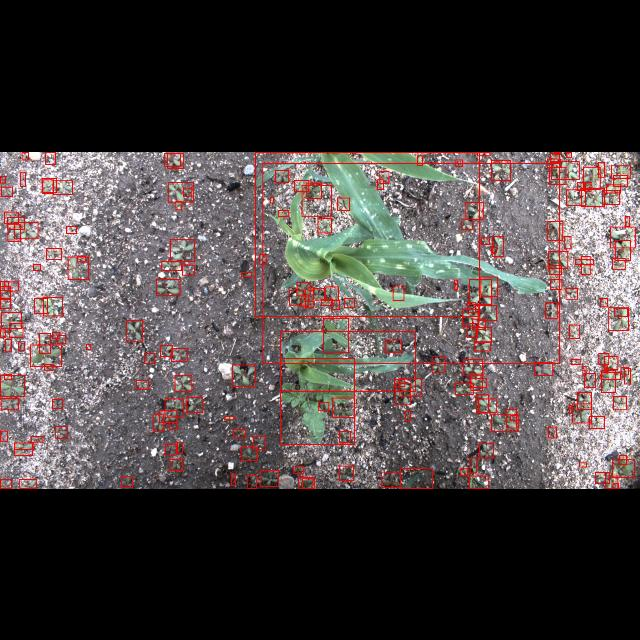crop: (262, 162, 560, 364), (255, 152, 479, 316), (280, 331, 416, 391), (400, 468, 432, 488), (469, 476, 488, 488)
weed: (280, 358, 354, 444), (302, 184, 332, 216), (324, 318, 348, 352), (30, 344, 61, 366), (469, 278, 491, 304), (610, 226, 636, 248), (0, 374, 24, 396), (170, 239, 194, 261), (232, 364, 255, 386), (551, 160, 579, 178), (168, 181, 192, 201), (492, 414, 518, 432), (68, 256, 88, 278), (332, 397, 354, 417), (609, 308, 629, 330), (581, 188, 605, 206), (43, 296, 63, 316), (400, 378, 422, 396), (612, 459, 634, 477), (14, 222, 38, 238), (156, 279, 180, 295), (492, 159, 511, 179), (572, 403, 592, 422), (480, 276, 498, 296), (548, 250, 568, 268), (584, 166, 600, 188), (164, 399, 183, 417), (126, 321, 142, 342), (1, 312, 21, 328), (395, 384, 411, 404), (463, 359, 483, 375), (566, 189, 586, 205), (602, 370, 616, 392), (382, 472, 401, 488), (478, 304, 497, 320), (174, 375, 192, 391), (260, 470, 278, 486), (462, 308, 478, 326), (602, 188, 620, 204), (550, 166, 566, 184), (53, 180, 73, 194), (478, 398, 498, 412), (548, 220, 562, 240), (616, 240, 630, 260), (187, 396, 203, 412), (306, 182, 322, 198), (478, 442, 494, 458), (476, 326, 492, 342), (466, 202, 482, 218), (14, 442, 32, 456), (577, 392, 591, 410), (535, 362, 553, 376), (612, 165, 630, 178), (476, 393, 488, 412), (164, 152, 180, 166), (168, 152, 182, 168), (241, 446, 257, 460), (289, 290, 305, 304), (7, 223, 20, 240), (492, 236, 503, 256), (152, 414, 164, 432), (160, 410, 177, 422), (40, 333, 50, 353), (161, 260, 181, 270), (506, 408, 516, 428), (455, 382, 473, 393), (42, 178, 56, 192), (34, 298, 48, 312), (275, 168, 289, 182), (318, 218, 332, 232), (324, 286, 338, 300), (339, 466, 353, 480), (8, 216, 24, 228), (172, 348, 188, 360), (386, 340, 402, 352), (432, 356, 444, 372), (584, 372, 596, 388), (546, 302, 558, 318), (471, 374, 482, 391), (2, 398, 18, 409), (42, 179, 54, 193), (4, 211, 18, 223), (10, 323, 22, 337), (253, 436, 265, 450), (296, 282, 310, 294), (590, 416, 604, 428), (613, 174, 627, 186), (604, 356, 618, 368), (614, 396, 626, 410), (46, 248, 62, 258), (14, 442, 34, 450), (298, 478, 314, 488), (467, 322, 477, 338), (392, 286, 403, 300), (472, 318, 486, 329), (595, 472, 609, 483), (469, 378, 486, 387), (56, 426, 68, 438), (20, 479, 36, 488), (170, 459, 182, 471), (160, 344, 172, 356), (337, 197, 349, 209), (313, 287, 325, 299), (474, 342, 490, 351), (606, 476, 618, 488), (582, 256, 590, 274), (294, 180, 308, 190), (569, 324, 579, 338), (612, 258, 626, 268), (121, 477, 132, 488), (45, 151, 55, 163), (0, 286, 10, 298), (182, 264, 194, 274), (233, 428, 245, 438), (302, 478, 314, 488), (566, 288, 578, 298), (550, 279, 562, 289), (550, 264, 562, 274), (601, 372, 621, 378), (5, 282, 19, 290), (606, 184, 620, 192), (614, 307, 628, 315), (1, 186, 12, 196), (166, 444, 177, 454), (599, 352, 609, 363), (0, 479, 12, 488), (136, 379, 148, 388), (379, 170, 388, 182), (575, 258, 593, 264), (0, 298, 10, 308), (52, 398, 62, 408), (144, 353, 154, 363), (340, 432, 350, 442), (462, 219, 472, 229), (550, 152, 560, 162), (469, 458, 476, 472), (248, 476, 256, 488), (548, 158, 560, 166), (624, 368, 630, 384), (319, 402, 329, 411), (548, 427, 556, 438), (20, 171, 26, 185), (5, 338, 11, 352), (598, 162, 604, 176), (0, 280, 8, 290), (56, 335, 66, 343), (294, 466, 304, 474), (331, 299, 339, 309), (344, 298, 354, 306), (395, 378, 405, 386), (468, 302, 476, 312), (480, 236, 490, 244), (31, 436, 43, 442), (230, 473, 236, 485), (564, 236, 570, 248), (66, 225, 76, 232), (44, 364, 54, 371), (1, 431, 8, 441), (169, 421, 177, 429), (184, 187, 192, 195), (460, 468, 468, 476), (577, 182, 585, 190), (600, 298, 608, 306), (18, 340, 24, 350), (177, 442, 183, 452), (260, 254, 266, 264), (279, 209, 289, 215), (302, 296, 308, 306), (322, 299, 332, 305), (377, 179, 383, 189), (624, 216, 630, 226), (22, 151, 28, 159), (77, 255, 85, 261), (0, 329, 6, 337), (176, 200, 182, 208), (306, 301, 314, 307), (478, 151, 490, 155), (456, 158, 462, 166), (620, 456, 626, 464), (572, 358, 580, 364), (585, 182, 591, 190), (622, 366, 628, 374), (0, 175, 6, 182), (52, 332, 59, 338), (224, 416, 234, 420), (241, 272, 251, 276), (406, 410, 410, 420), (454, 279, 458, 289), (418, 154, 422, 164), (34, 264, 40, 270), (491, 246, 497, 252), (510, 416, 518, 420), (568, 405, 572, 413), (582, 366, 586, 374), (5, 374, 12, 378), (270, 196, 274, 202), (308, 286, 314, 290), (580, 463, 586, 467), (613, 484, 619, 488), (566, 152, 572, 156), (604, 365, 608, 371), (86, 344, 90, 348), (554, 151, 560, 153)
